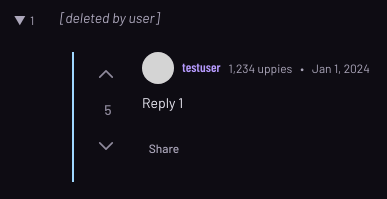
Scenario: CommentItem - Collapse/Expand Badge › Deleted/removed comments › should collapse/expand replies for deleted comment
Expected: the text "Reply 1" is shown, x1=142 y1=94 x2=183 y2=111
Click the button titled "Collapse thread" at [24, 20], box x1=6 y1=8 x2=42 y2=32
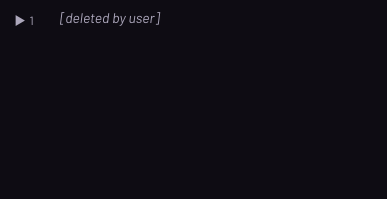
Expected: the text "Reply 1" is gone
